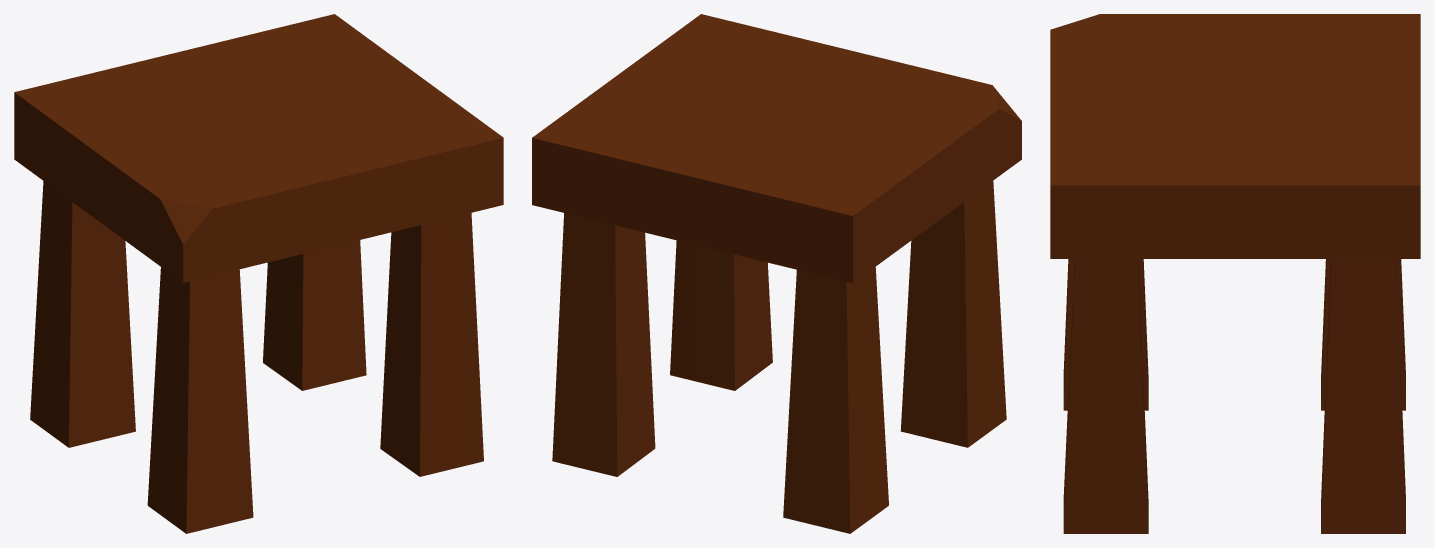
File: Table 02.FBX
The picture shows the model from 3 angles, left to right: view 1: azimuth 30°, elevation 25°; view 2: azimuth 150°, elevation 25°; view 3: azimuth 270°, elevation 25°; orthographic projection. The views are drawn at different scales.
Visible parts, largest first — view 1: Table 02; view 2: Table 02; view 3: Table 02.
Part boxes in pixels (x1,y1,x2,y2): Table 02: (14,14,503,533); Table 02: (532,14,1021,533); Table 02: (1050,14,1420,533).
Bounding box in the file's own units: 91.57 × 88.64 × 83.61.
